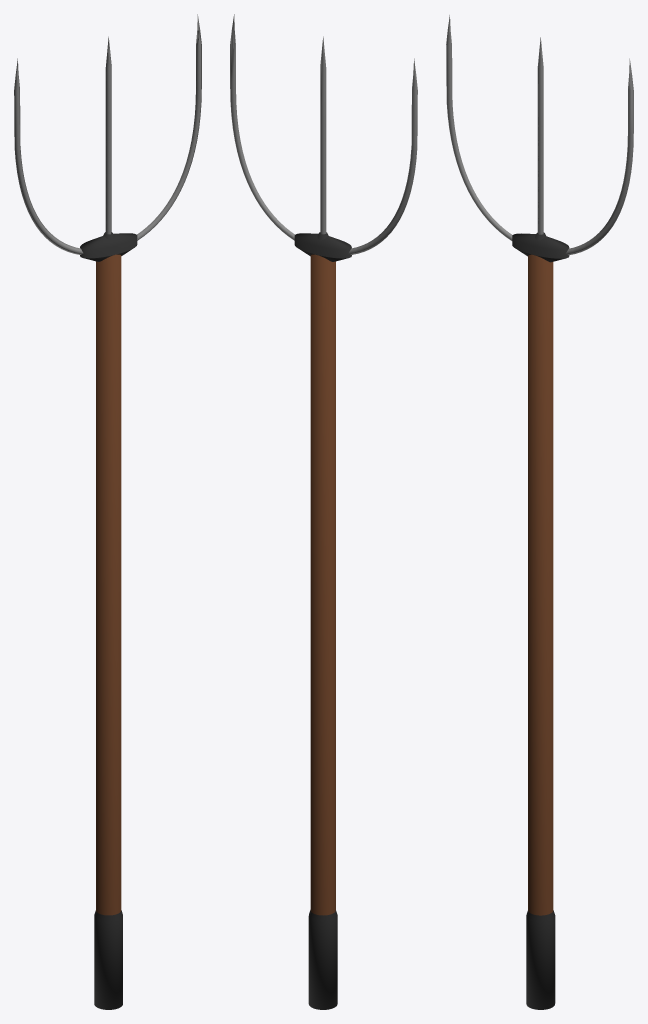
The model's file is pitchfork.fbx.
The picture shows the model from 3 angles, left to right: view 1: azimuth 30°, elevation 25°; view 2: azimuth 150°, elevation 25°; view 3: azimuth 330°, elevation 25°; orthographic projection.
Parts seen in each view (by area): view 1: Pitchfork; view 2: Pitchfork; view 3: Pitchfork.
Part boxes in pixels (x1,y1,x2,y2): Pitchfork: (14, 14, 201, 1009); Pitchfork: (230, 14, 417, 1009); Pitchfork: (446, 15, 633, 1009).
Size of the model in its own units: 183 by 900 by 24.28.
